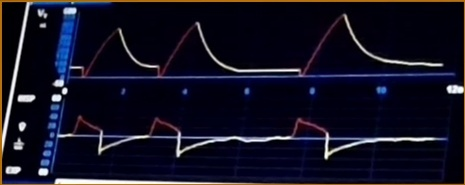Flow: (65, 105, 427, 178)
Leakage Volume: (74, 14, 428, 86)
